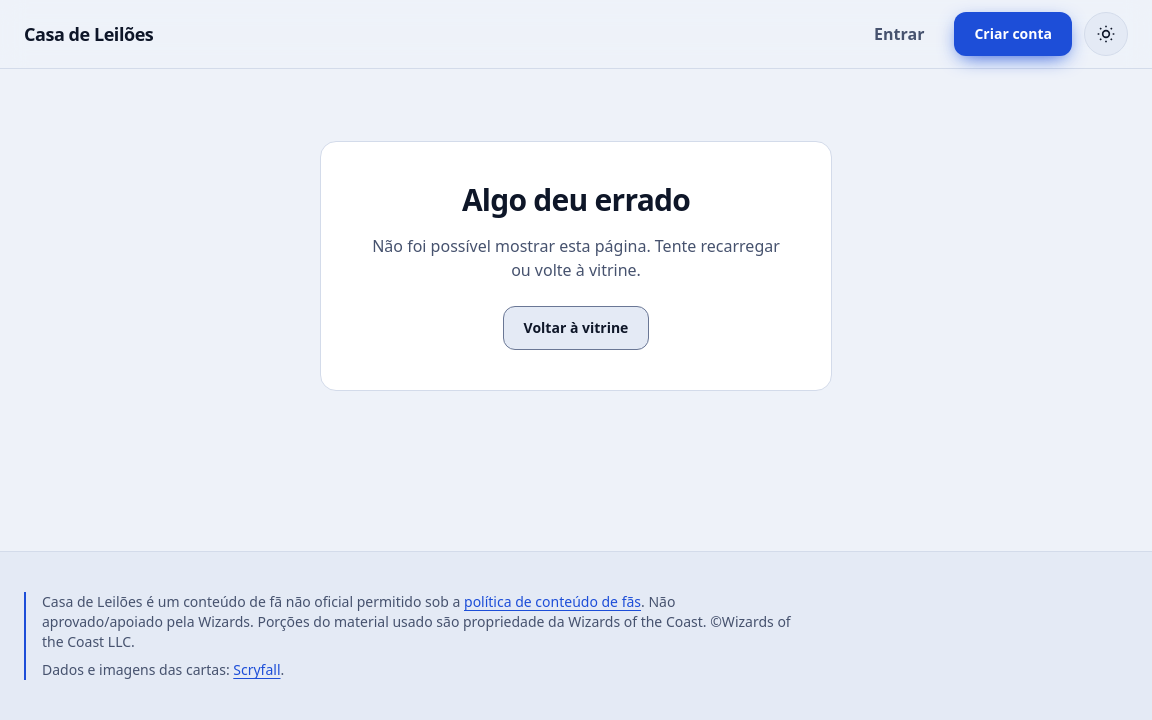
Test: erro ao renderizar uma rota (errorElement) › "Voltar à vitrine" sai do erro e leva o foco ao <main>
The width and height of the screenshot is (1152, 720).
Expected: the heading "Algo deu errado" is shown, [462, 179, 690, 220]
What coordinates should you click on to do the following:
click the link "Voltar à vitrine"
I would click on:
 (576, 328)
Its box is [503, 306, 649, 350].
(page scrolled)
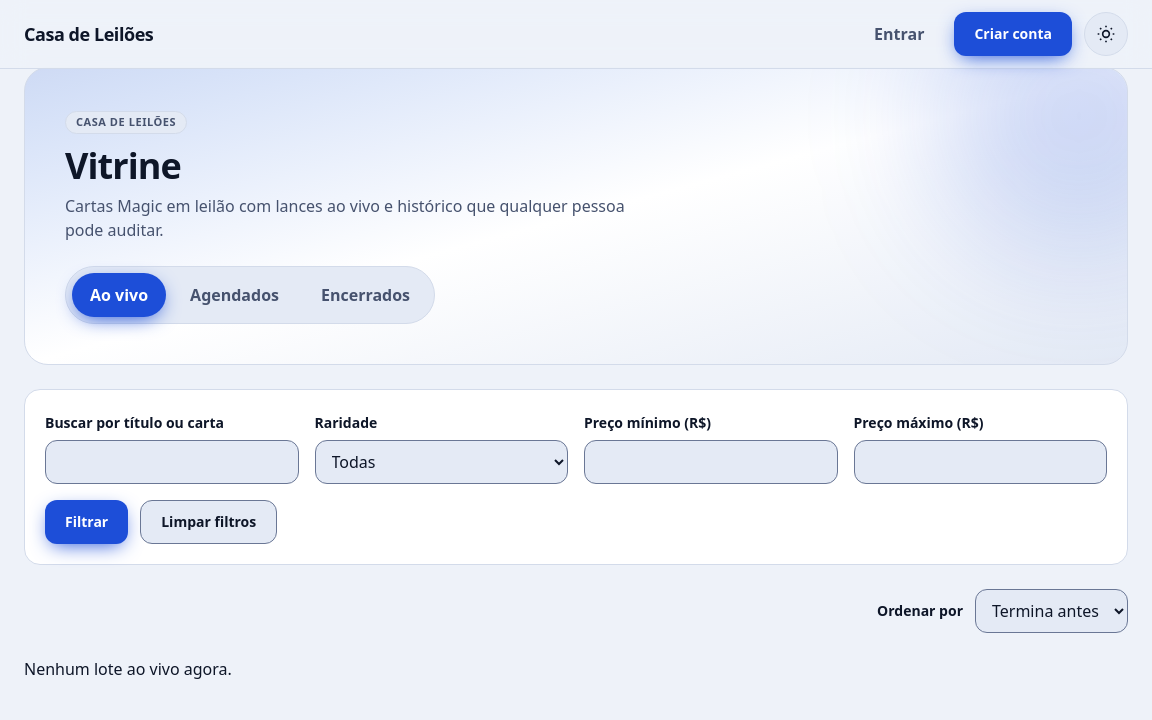
Expected: the heading "Vitrine" is shown, [65, 140, 181, 190]
Expected: the message "Algo deu errado Não foi possível mostrar esta página. Tente recarregar ou volte" is gone
